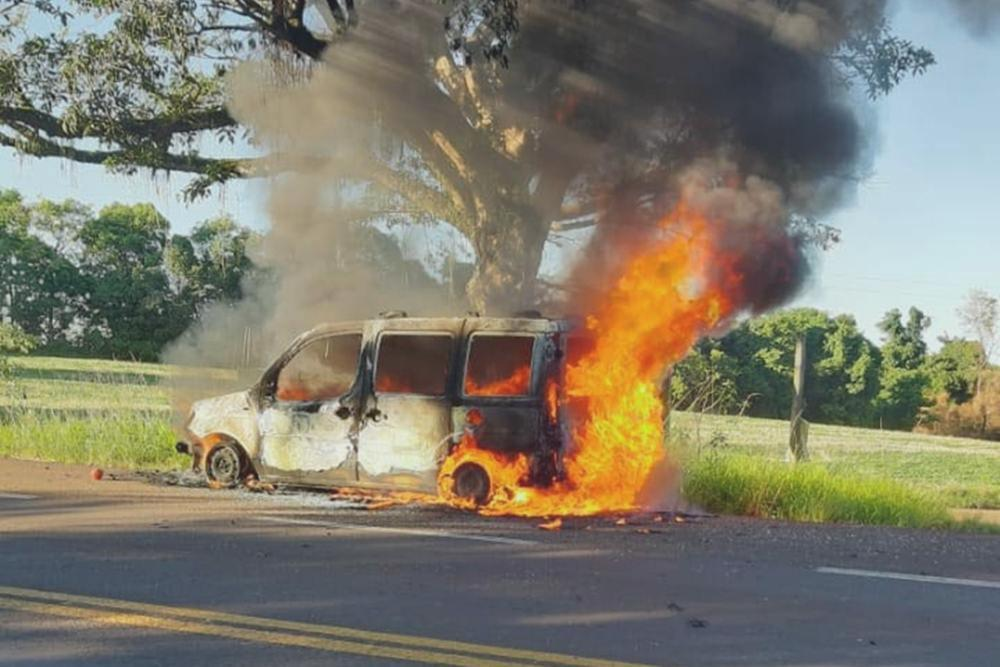Fire: (342, 203, 727, 520)
